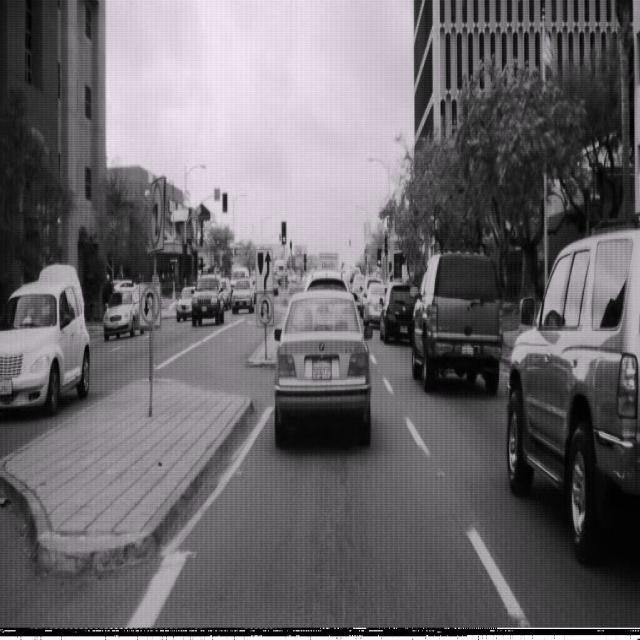noLeftTurn: (148, 178, 164, 251)
